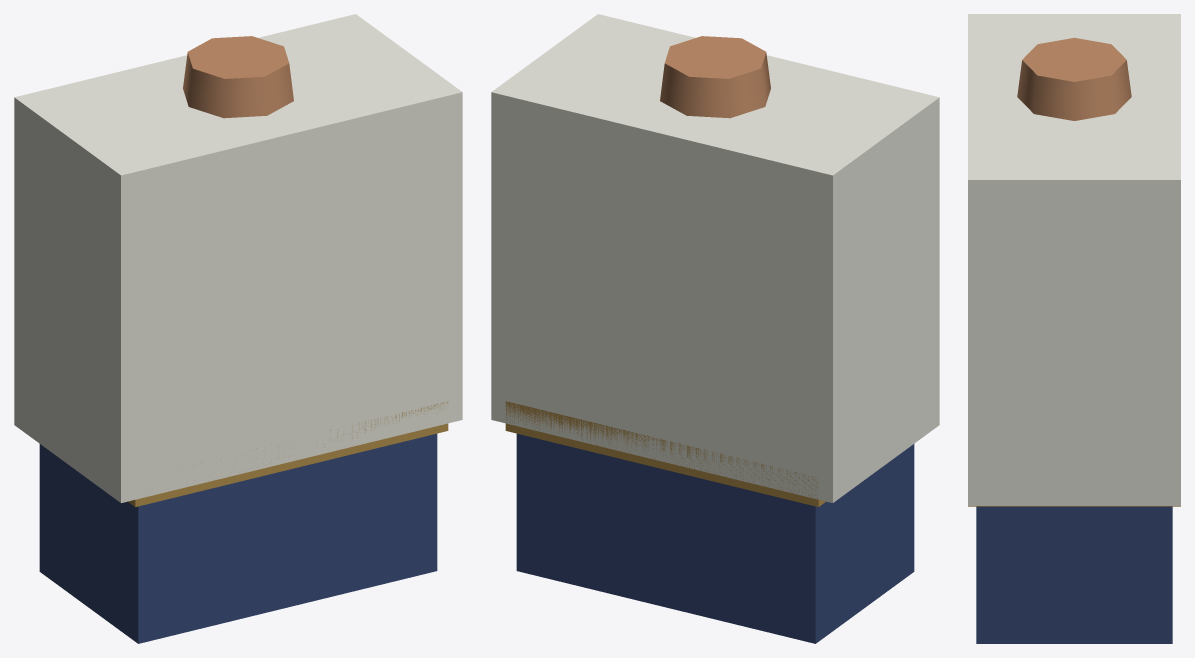
The model's file is PRezo_Torso.obj.
3 renders of one model, left to right at view 1: azimuth 30°, elevation 25°; view 2: azimuth 150°, elevation 25°; view 3: azimuth 270°, elevation 25°, orthographic.
Visible parts, largest first — view 1: Torso; view 2: Torso; view 3: Torso.
Part boxes in pixels (x1=…): Torso: x1=14, y1=14, x2=462, y2=643; Torso: x1=491, y1=14, x2=939, y2=643; Torso: x1=968, y1=14, x2=1180, y2=643.
Size of the model in its own units: 0.24 by 0.345 by 0.13.
1 material, 1 textured.
